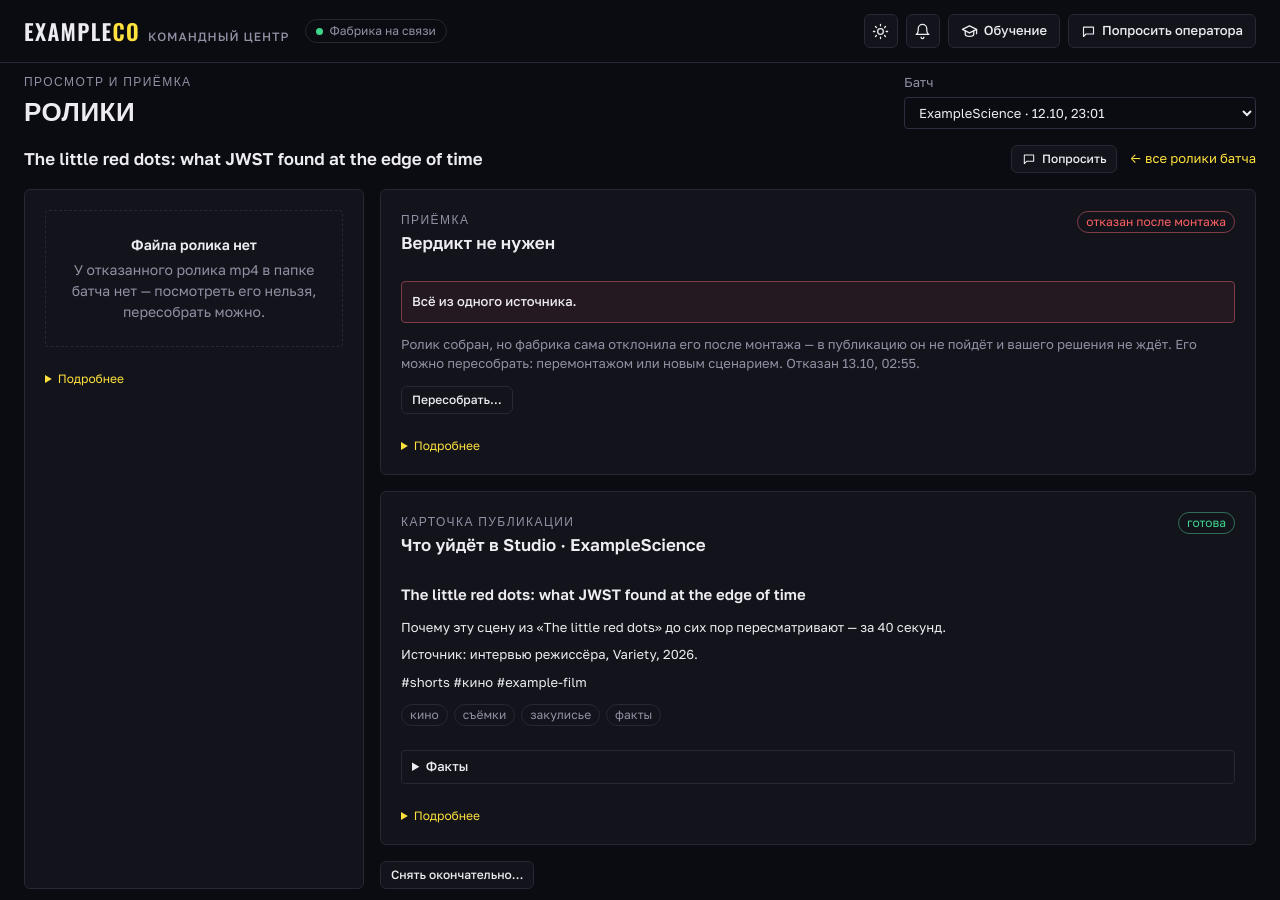
CC-0116: экран «Ролики» › без файла: «Файла ролика нет», превью нет; в пересборке — плана монтажа нет
(page scrolled)
Expected: the text "Файла ролика нет" is shown, 131,234 -> 257,254
Expected: the text with test id "refused-reason" reads "Всё из одного источника.", 401,281 -> 1235,322
Click the button with test id "refused-rebuild" at [457, 400], box 401,386 -> 512,414
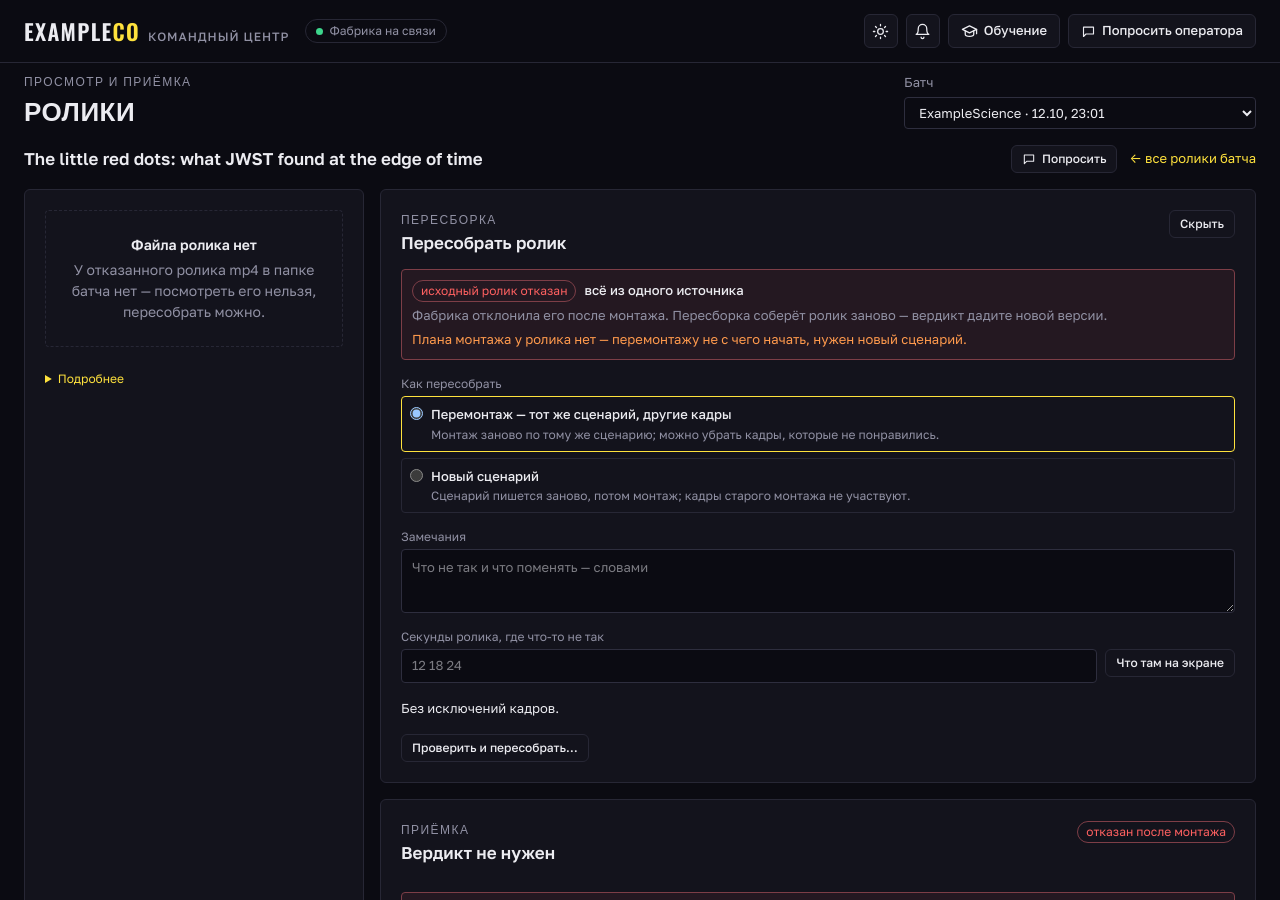
Expected: the text with test id "rebuild-no-plan" shows "Плана монтажа у ролика нет", 412,330 -> 967,346
Click the button with test id "rebuild-open" at [495, 748], box 401,734 -> 589,762
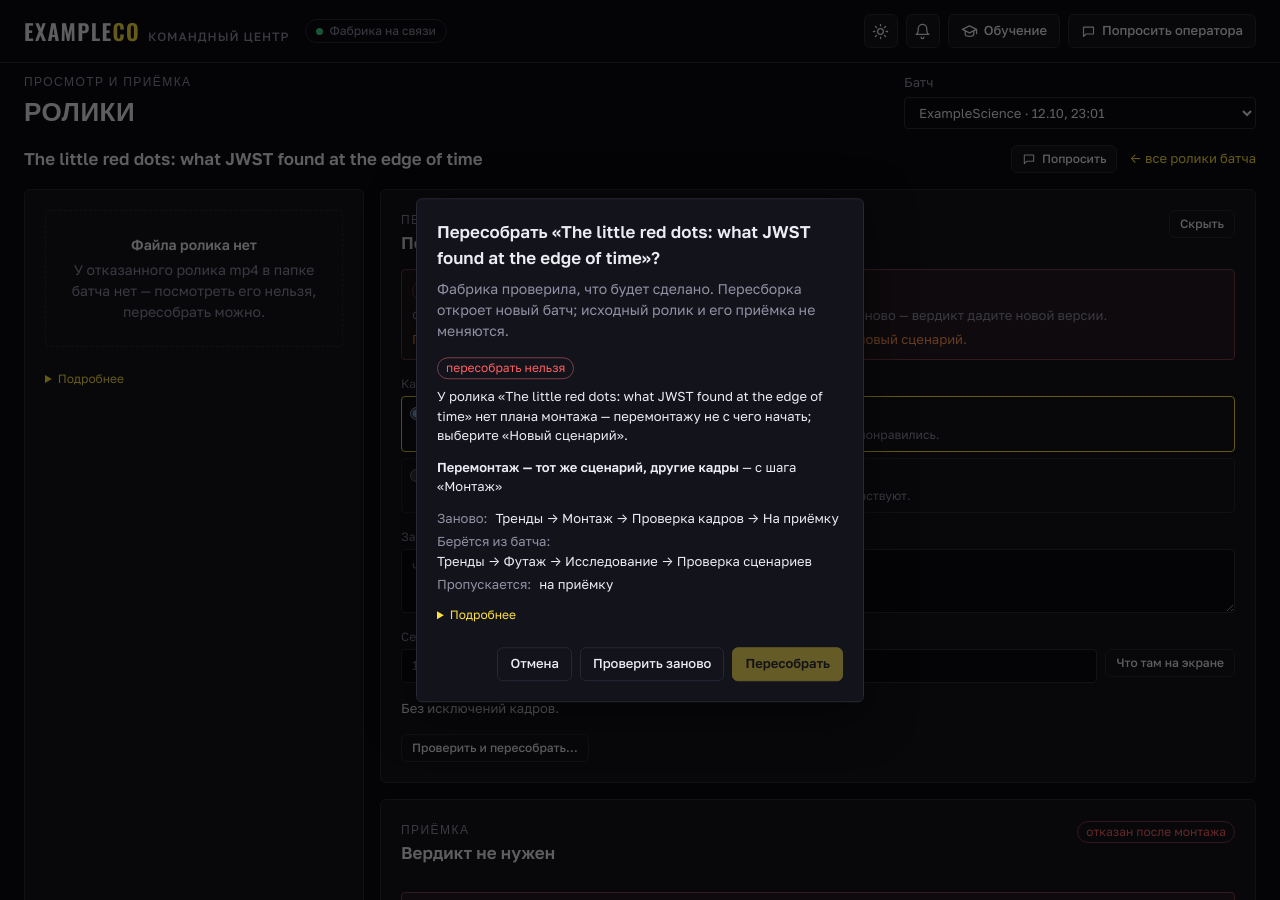
Expected: the text with test id "rebuild-reason" shows "У ролика «The little red dots: what JWST found at the edge of time» нет плана монтажа", 437,388 -> 823,443
